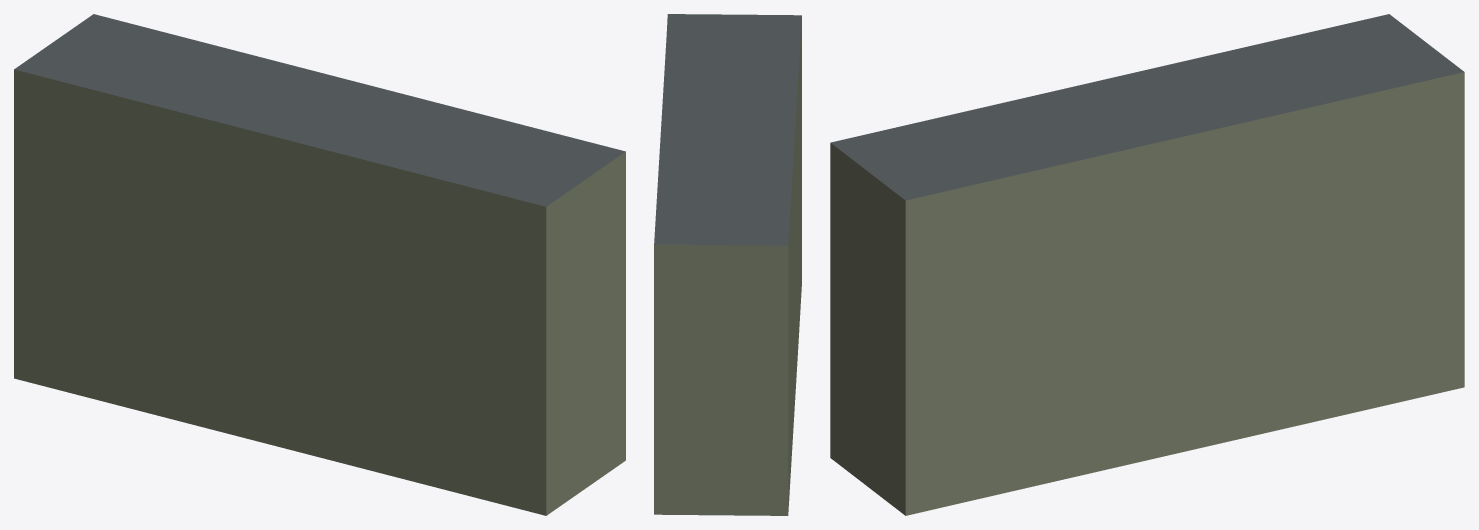
The model's file is nyc-1022570-0.glb.
3 views of the same model, side by side, from view 1: azimuth 30°, elevation 25°; view 2: azimuth 150°, elevation 25°; view 3: azimuth 270°, elevation 25° (orthographic). The views are drawn at different scales.
Parts seen in each view (by area): view 1: nyc-1022570-0; view 2: nyc-1022570-0; view 3: nyc-1022570-0.
Part boxes in pixels (box(x1,y1,x2,y2)): nyc-1022570-0: box(14, 14, 625, 515); nyc-1022570-0: box(654, 14, 801, 515); nyc-1022570-0: box(830, 14, 1464, 515).
Size of the model in its own units: 16.6 by 13.08 by 23.84.
